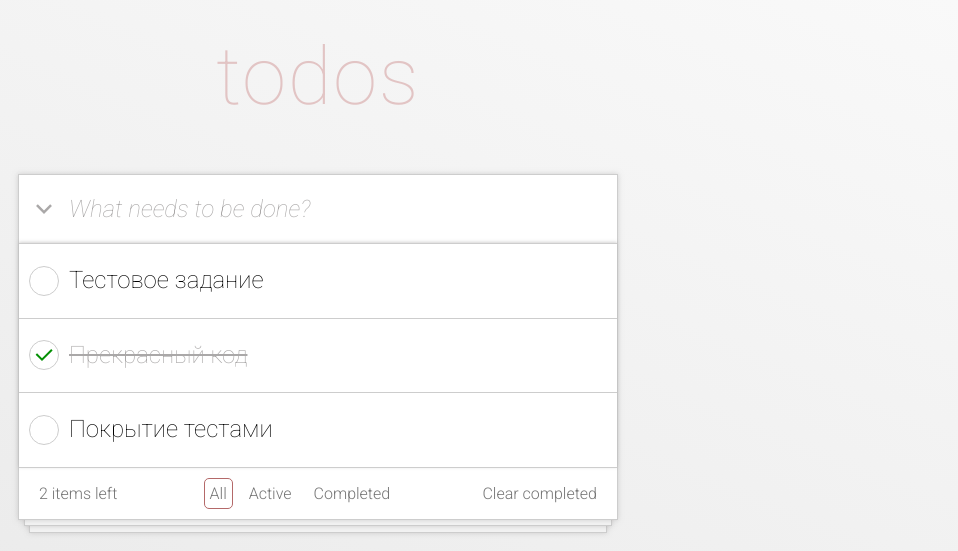
Test: filter tests › filter completed
This screenshot has width=958, height=551.
Expected: the text "2 items left" is shown, [39, 484, 117, 503]
Click the button "Completed": (352, 493) [308, 478, 396, 509]
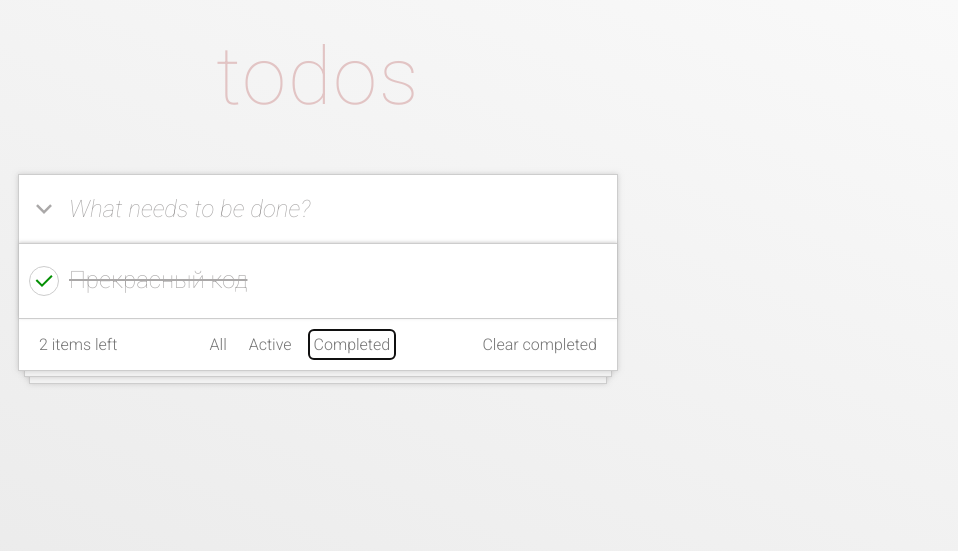
Expected: the number of elements with class "todo" is 1, [19, 243, 617, 318]
